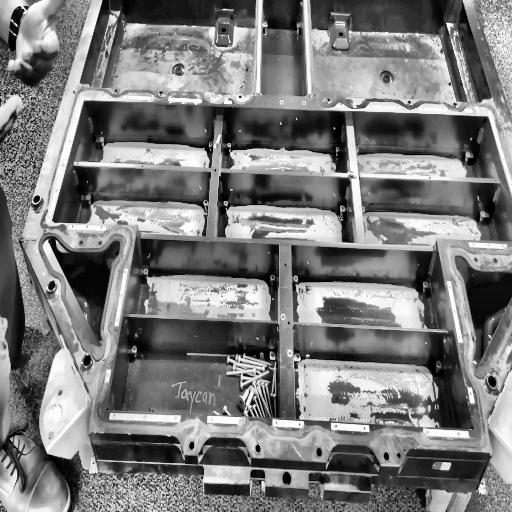b_casing: (17, 0, 512, 512)
